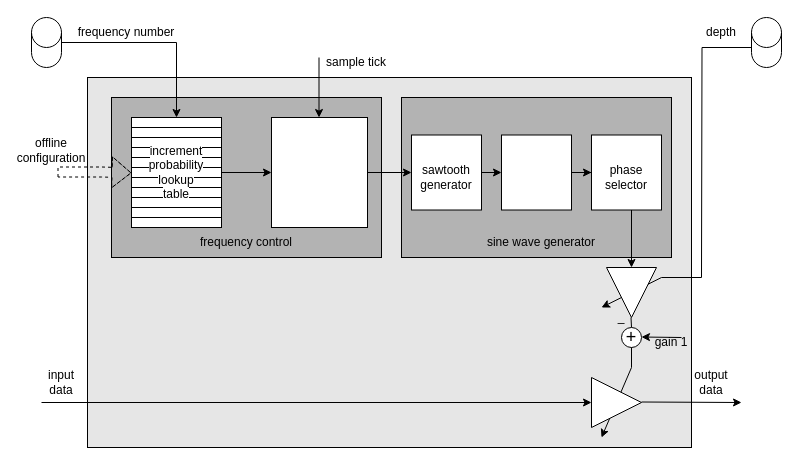
This 799x465 diagram has some shape labels left out. Here are the shapes that lost their labels. From the top down, the centre of each, then its label:
(x=319, y=172): token bucket increment enable generator
(x=536, y=172): cordic
